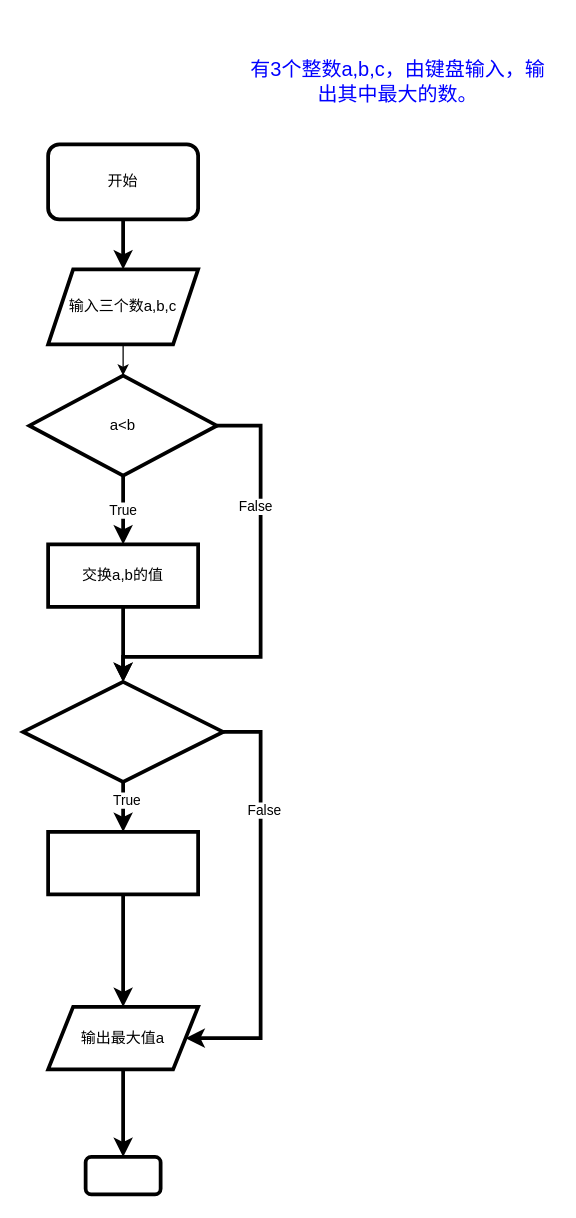
This 576x1218 diagram has some shape labels left out. Here are the shapes that lost their labels. From the top down, the centre of each, then its label:
point (122, 731): b<c
point (122, 862): 交换b,c的值
point (122, 1175): 结束
